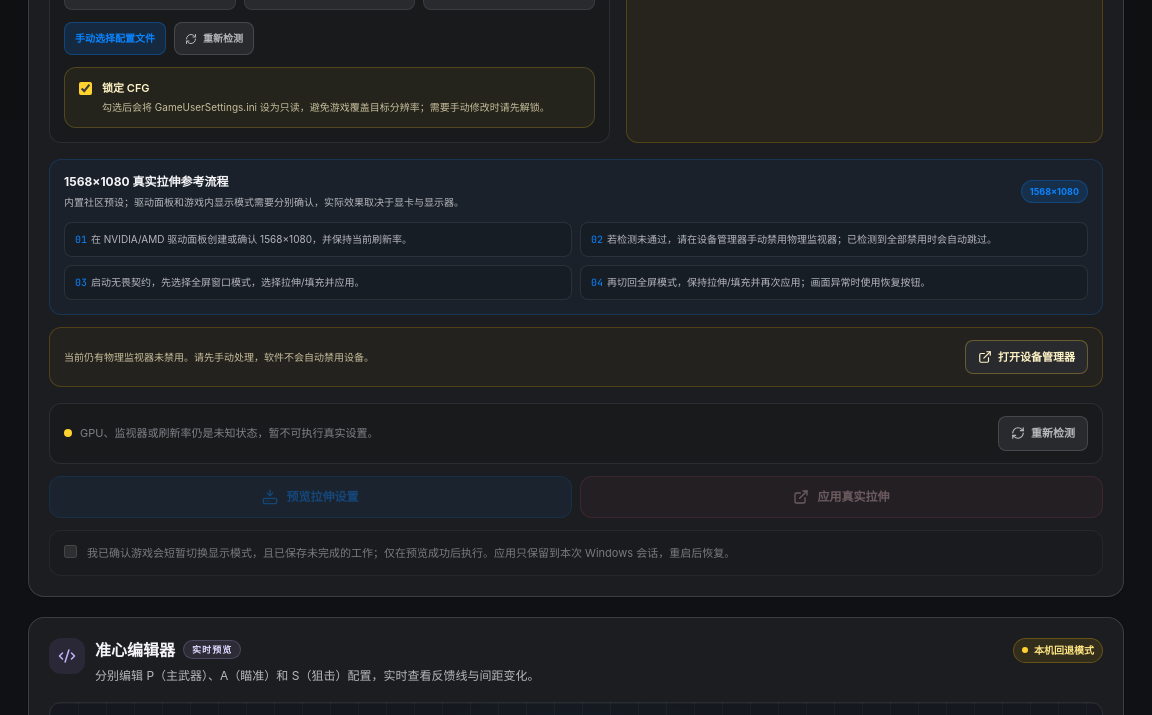
Scenario: ValorantLabPage › offers Device Manager as a manual helper when the monitor prerequisite is not met
(page scrolled)
Click the button "打开设备管理器".
click(1026, 357)  # box [965, 340, 1088, 374]
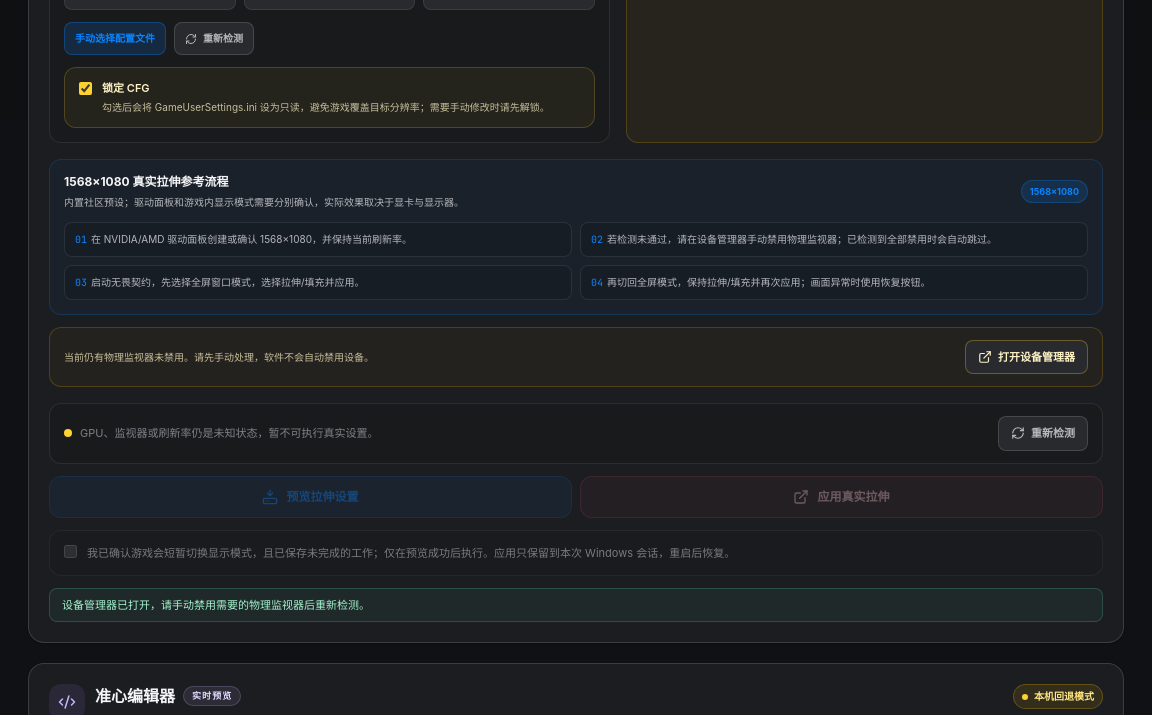
Result: the text "设备管理器已打开，请手动禁用需要的物理监视器后重新检测。" is shown at [49, 588, 1103, 622]
